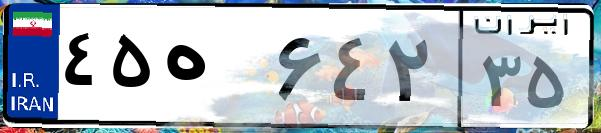2: (385, 28, 445, 110)
3: (475, 38, 525, 113)
4: (330, 28, 385, 110), (57, 26, 110, 100)
5: (525, 38, 570, 115), (110, 28, 158, 98)
6: (270, 28, 330, 110)
ه: (158, 20, 270, 120)
